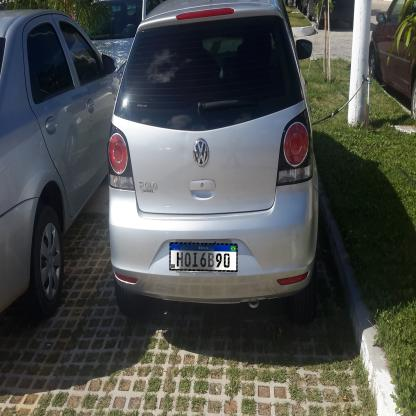PlacaM: (169, 242, 238, 272)
